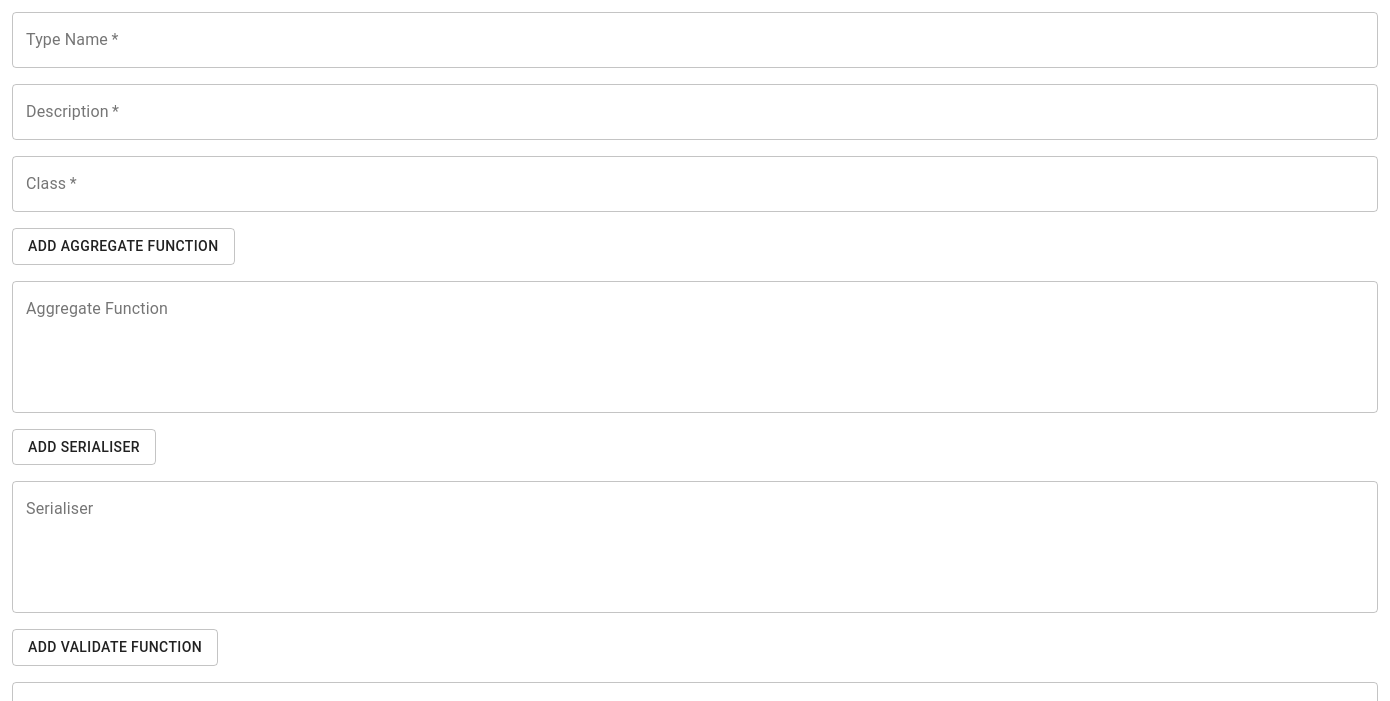
Add Type UI Component › Add Type inputs › should display error message when invalid type description entered
Type "Type description +" into the field with id "type-description-input".
click(695, 112); type("Type description +")  # box [12,84,1378,140]
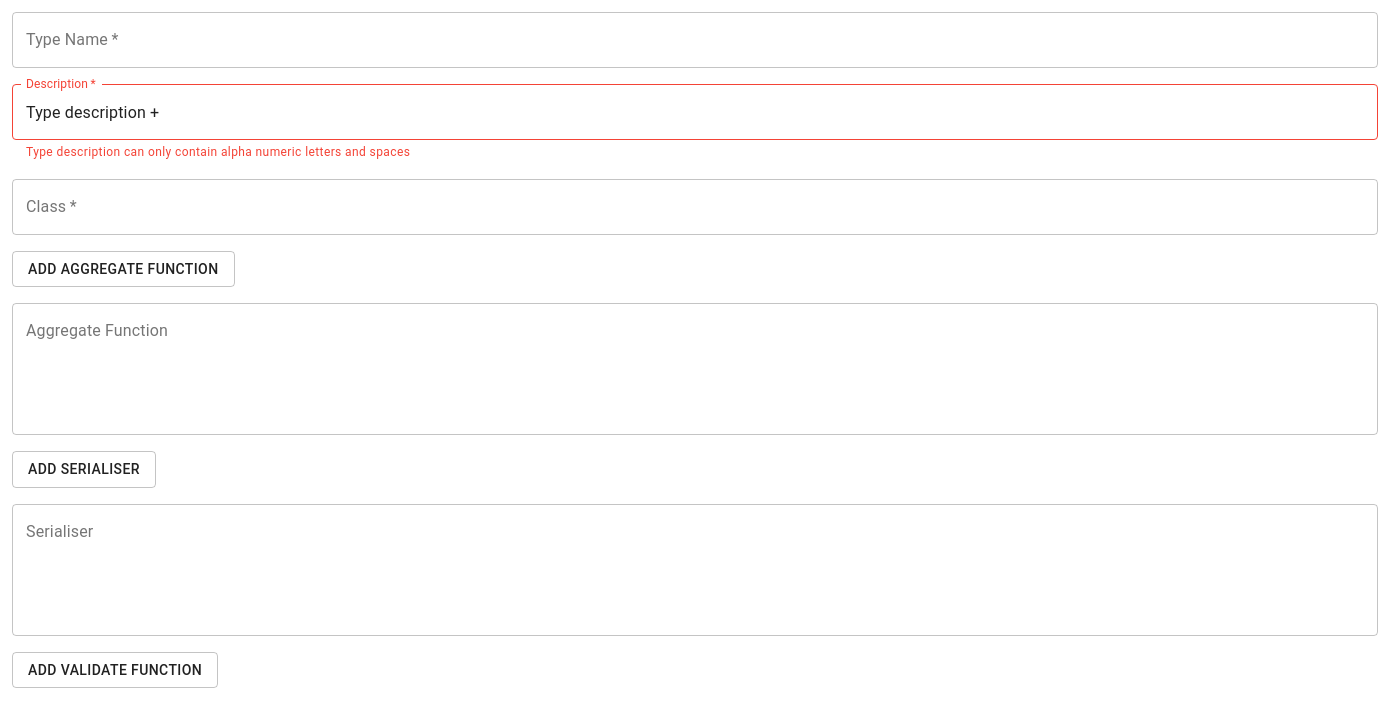
Check: the text with id "type-description-input-helper-text" reads "Type description can only contain alpha numeric letters and spaces", box [26,145,410,159]
